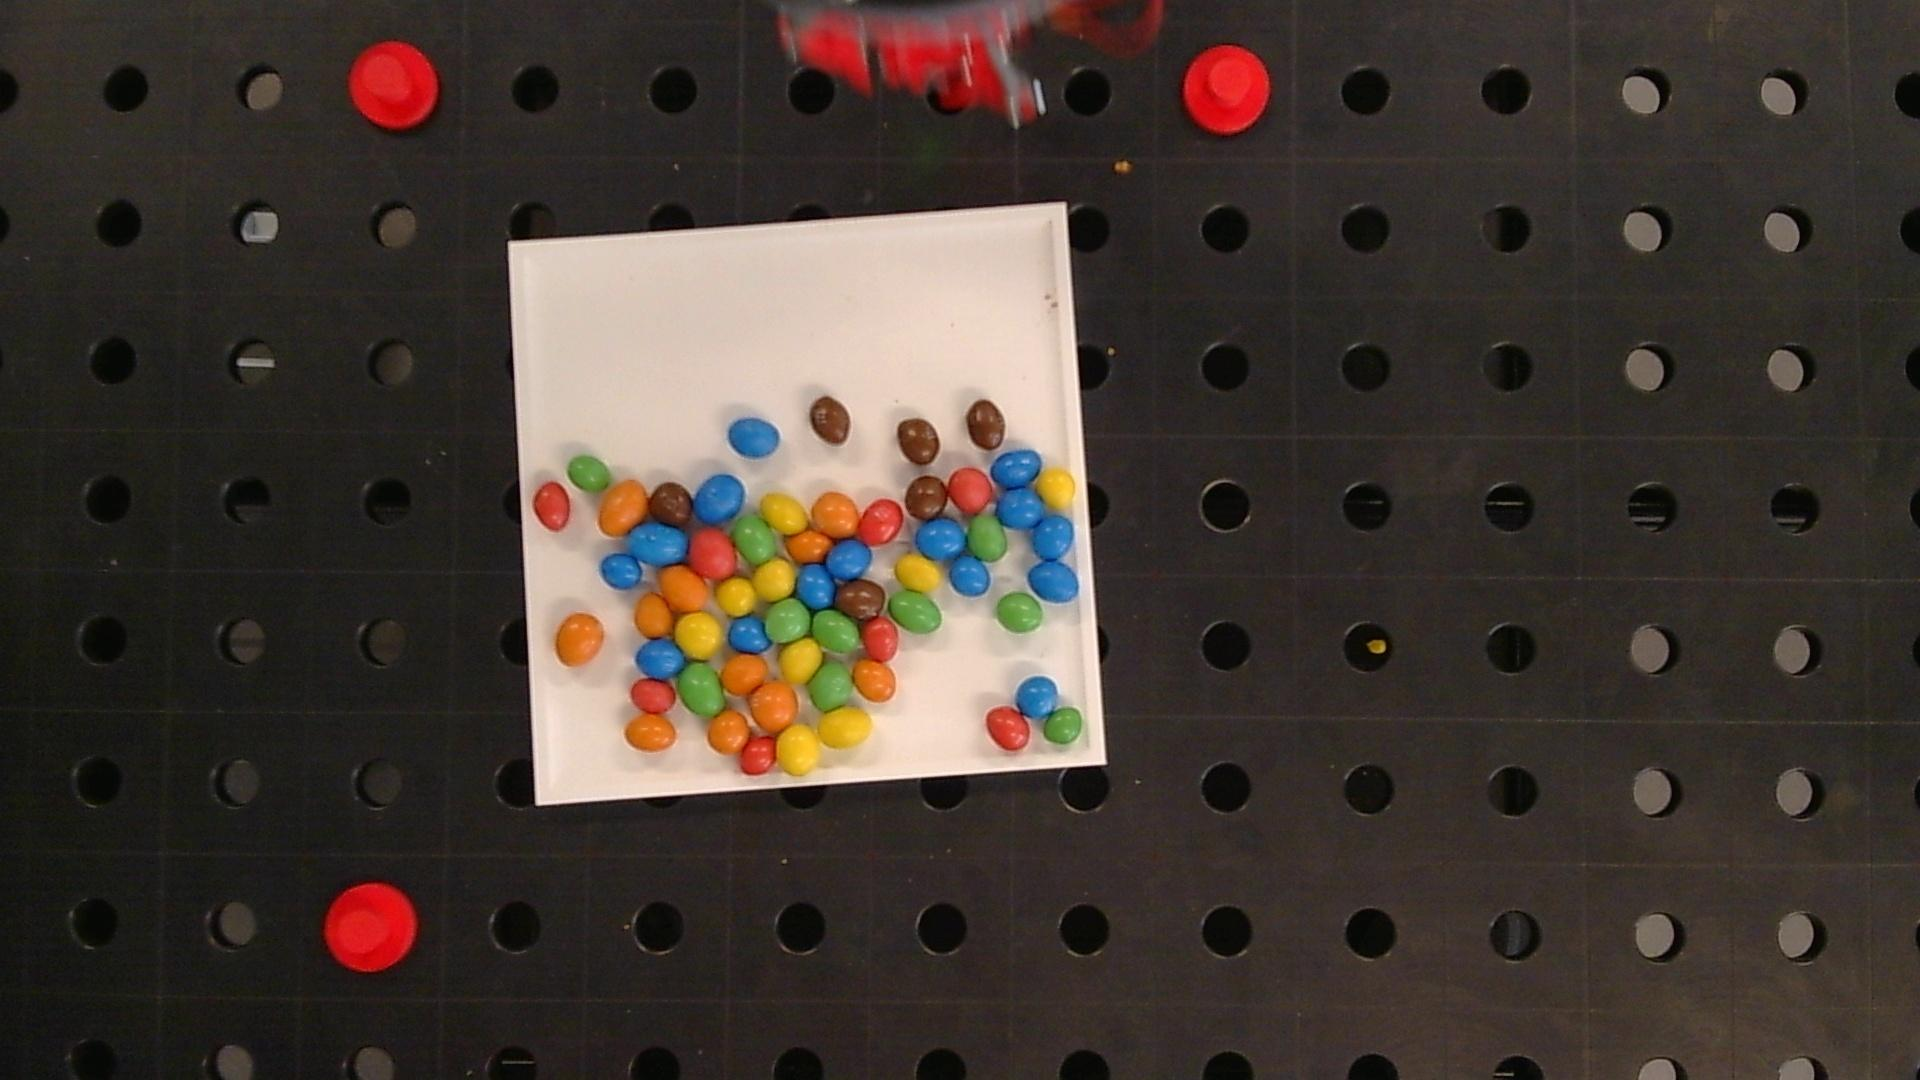blue: (629, 524, 688, 566), (694, 473, 744, 522), (915, 517, 965, 559), (1029, 560, 1079, 601), (728, 418, 779, 458), (1031, 514, 1075, 560), (992, 451, 1042, 488), (637, 638, 683, 676), (828, 539, 870, 580), (998, 489, 1043, 527), (1017, 676, 1059, 716), (949, 555, 990, 595), (601, 553, 642, 589), (798, 566, 835, 607), (728, 616, 769, 651)
brown: (897, 418, 940, 465), (810, 396, 852, 444), (649, 481, 692, 527), (967, 400, 1005, 450), (906, 475, 947, 520), (837, 580, 884, 620)
green: (678, 662, 724, 715), (889, 591, 943, 633), (733, 514, 777, 564), (810, 661, 853, 709), (812, 609, 858, 653), (766, 599, 811, 642), (997, 593, 1044, 633), (968, 516, 1007, 560), (1043, 707, 1085, 745), (567, 455, 612, 491)
orange: (600, 480, 647, 534), (555, 613, 604, 665), (750, 680, 796, 732), (659, 566, 708, 611), (812, 492, 860, 537), (624, 715, 676, 752), (853, 659, 897, 702), (721, 654, 766, 695), (708, 711, 749, 754), (636, 593, 671, 637), (786, 530, 833, 562)
red: (688, 530, 736, 579), (857, 498, 903, 545), (985, 707, 1031, 750), (948, 468, 994, 512), (533, 481, 571, 530), (862, 618, 898, 661), (630, 679, 675, 712), (740, 737, 777, 774)
yellow: (777, 724, 819, 775), (819, 707, 872, 748), (675, 613, 721, 658), (778, 640, 822, 683), (761, 493, 808, 533), (753, 559, 796, 600), (895, 555, 940, 591), (1036, 468, 1075, 509), (716, 578, 754, 615)
